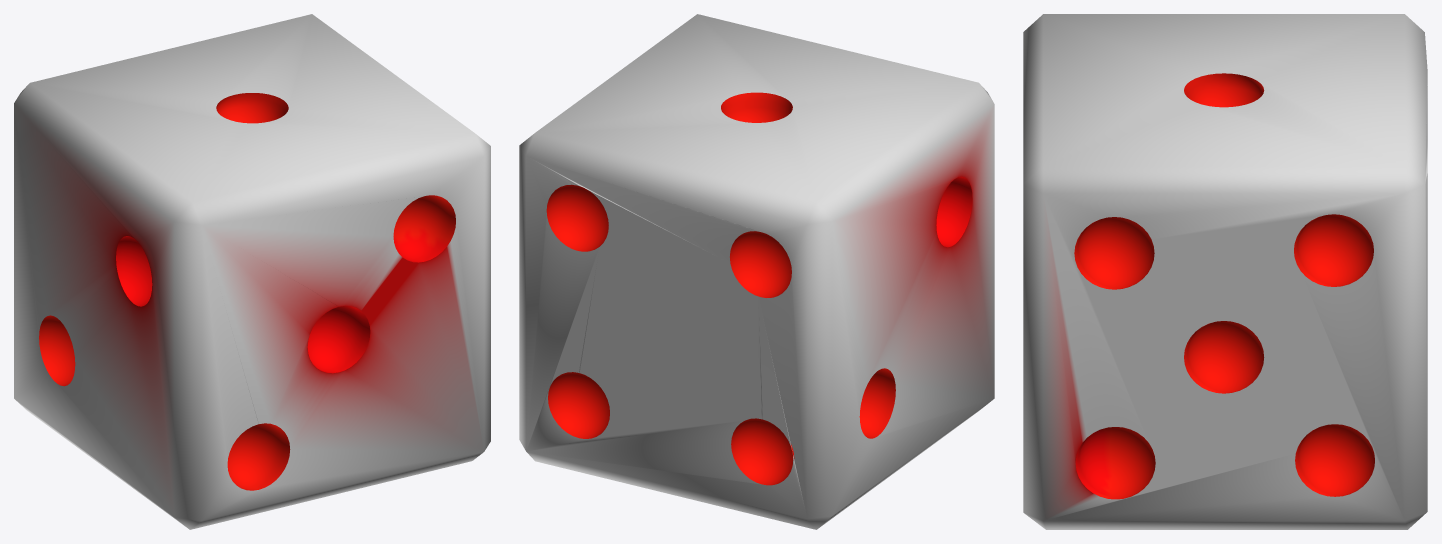
Rendered from dice(plastic).FBX.
The picture shows the model from 3 angles, left to right: view 1: azimuth 30°, elevation 25°; view 2: azimuth 150°, elevation 25°; view 3: azimuth 270°, elevation 25°; orthographic projection. The views are drawn at different scales.
Parts seen in each view (by area): view 1: ChamferBox001; view 2: ChamferBox001; view 3: ChamferBox001.
Part boxes in pixels (x1=…): ChamferBox001: x1=14, y1=14, x2=490, y2=529; ChamferBox001: x1=519, y1=14, x2=994, y2=529; ChamferBox001: x1=1023, y1=14, x2=1427, y2=529.
Size of the model in its own units: 3.96 by 3.94 by 3.96.
